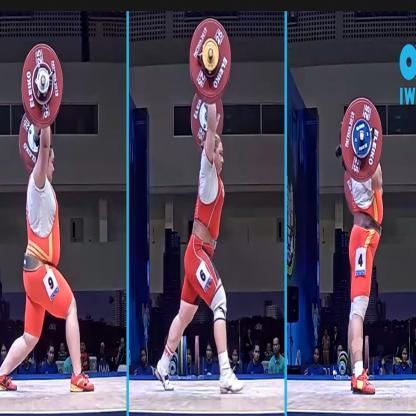Barbell: (184, 14, 234, 105), (339, 92, 385, 184), (19, 40, 66, 128)
